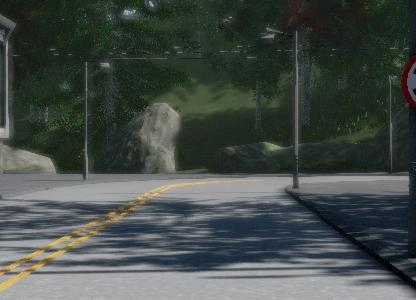Speed_30: (397, 44, 416, 117)
